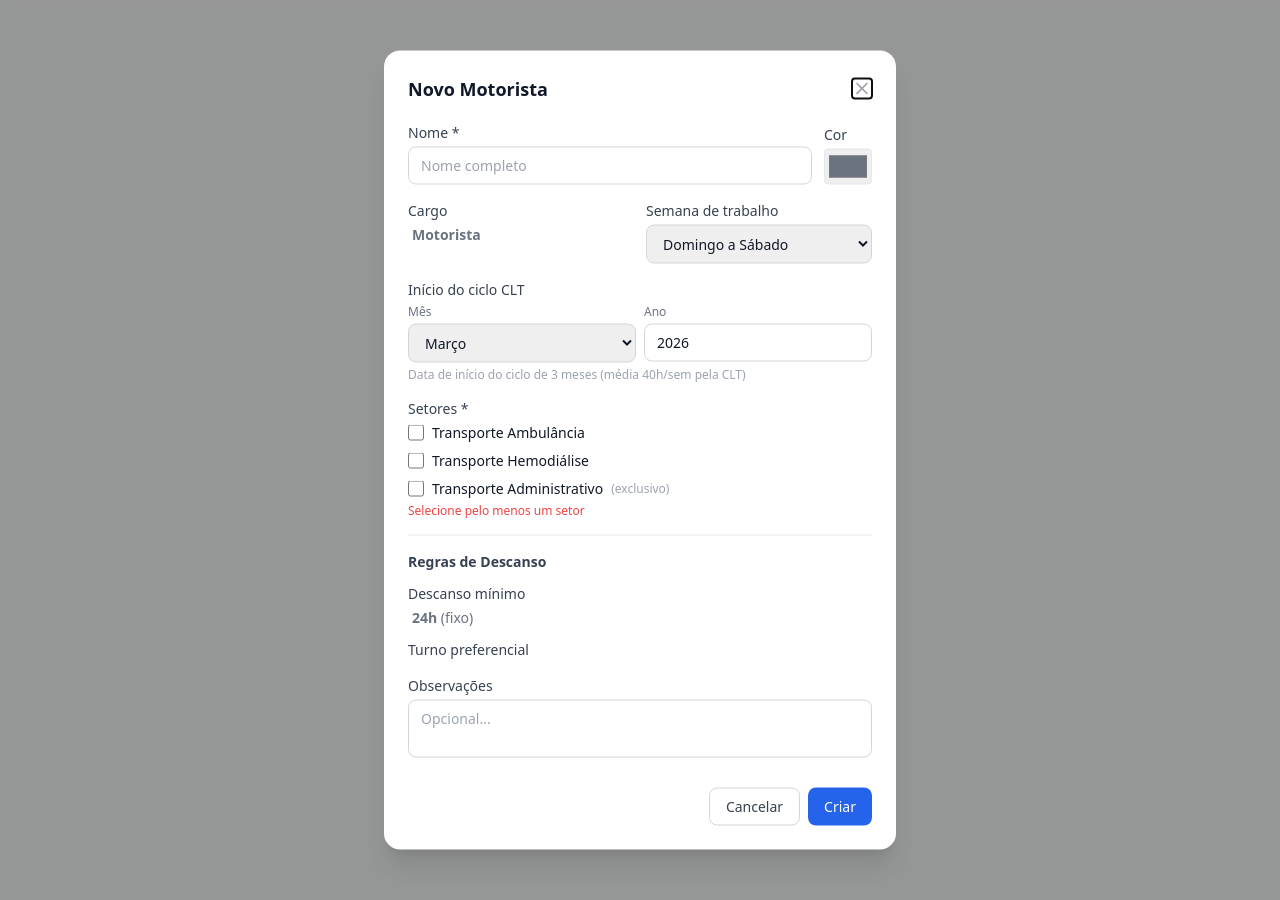
it: EmployeeForm — submit › submit sem nome exibe mensagem de validação do campo
The image size is (1280, 900).
Click the checkbox labelled "Transporte Ambulância": (416, 432) [408,424,424,440]
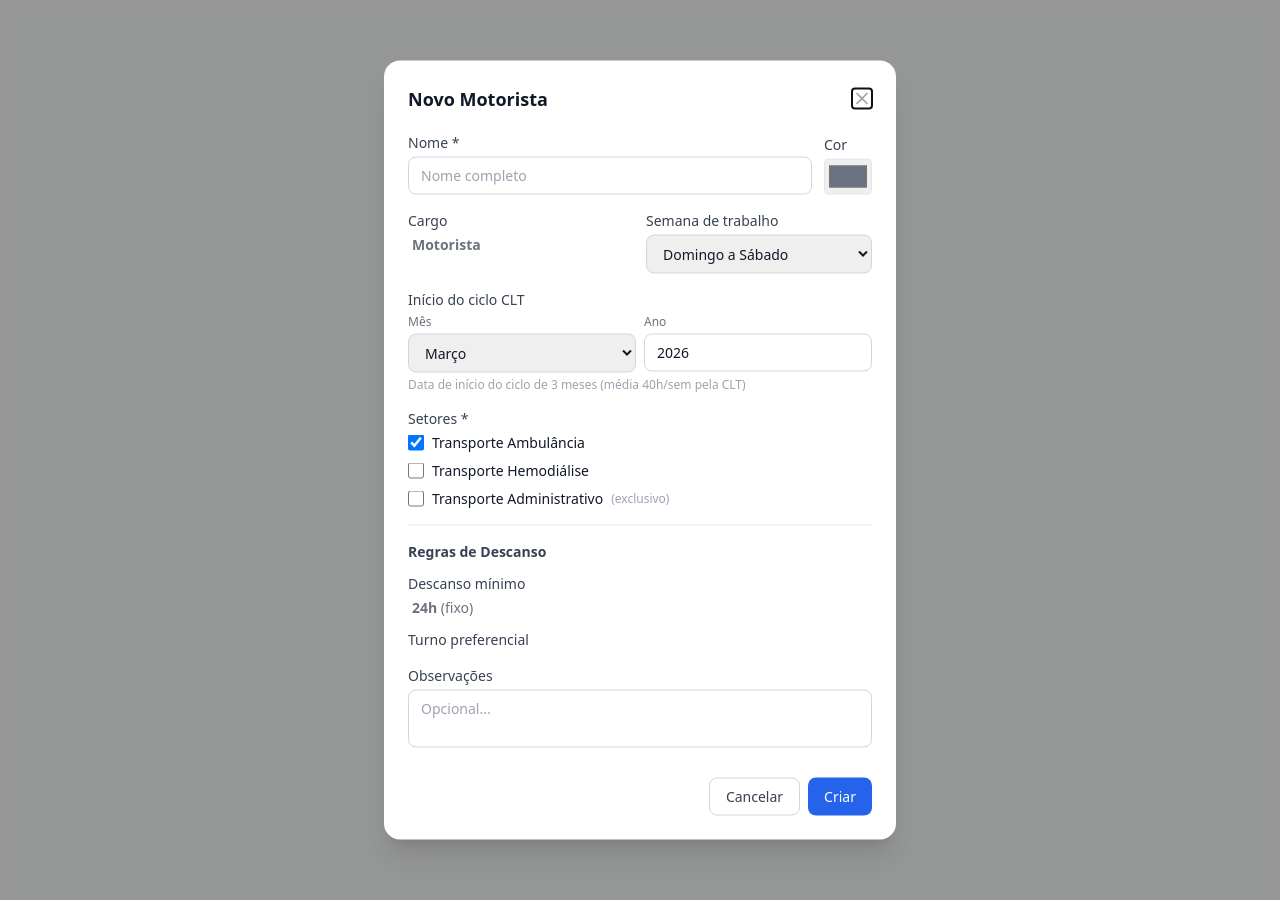
Click the button "Criar": (840, 796) [808,778,872,816]
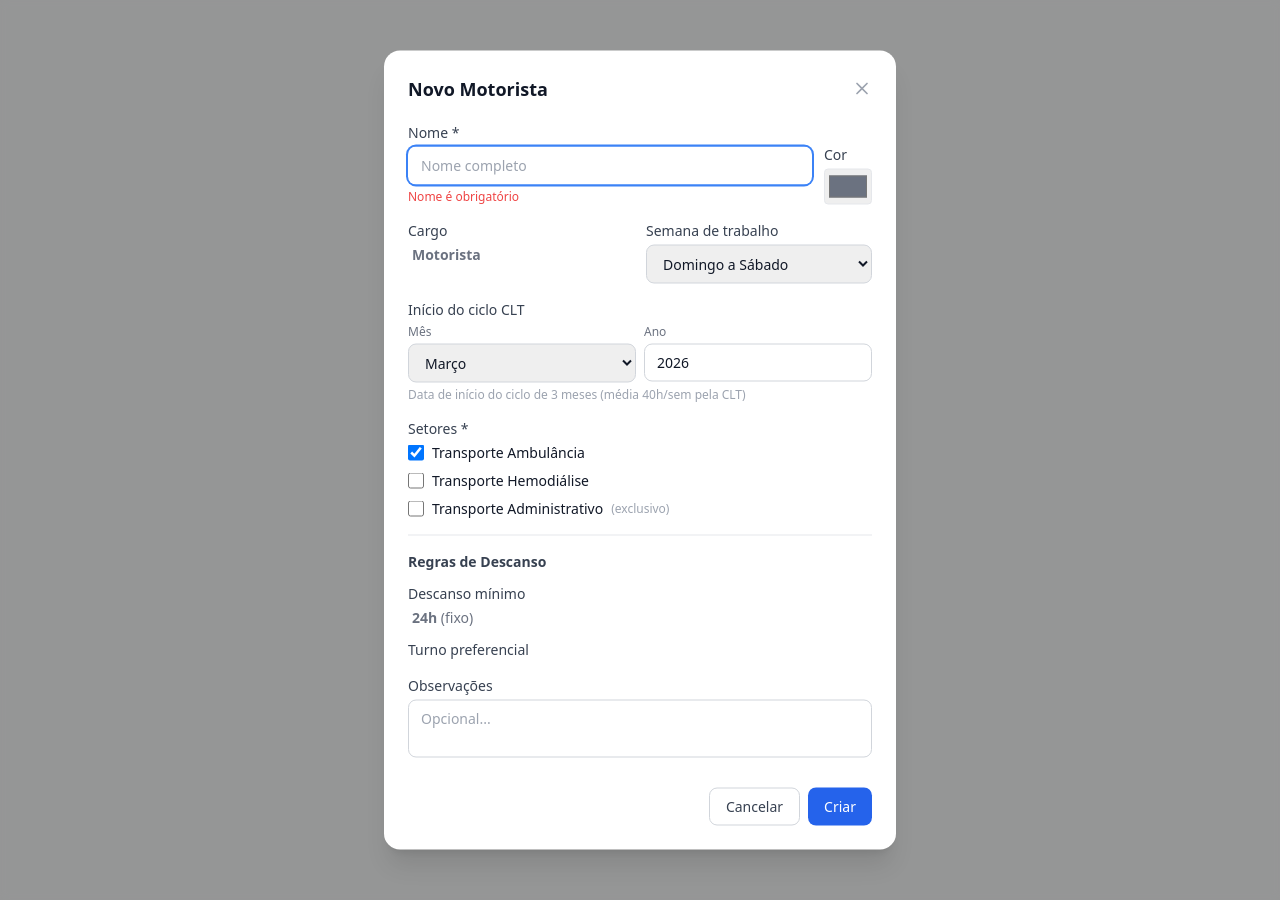
Now the text "Nome é obrigatório" is shown, box [408,188,519,204]
